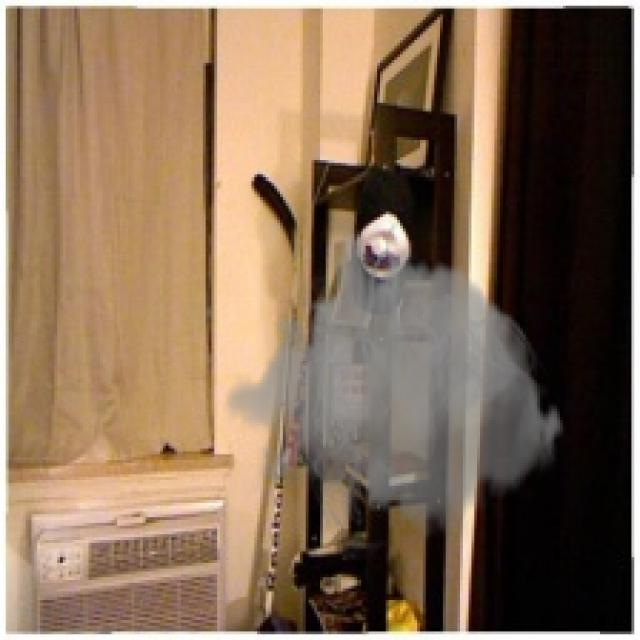smoke: (223, 217, 566, 566)
